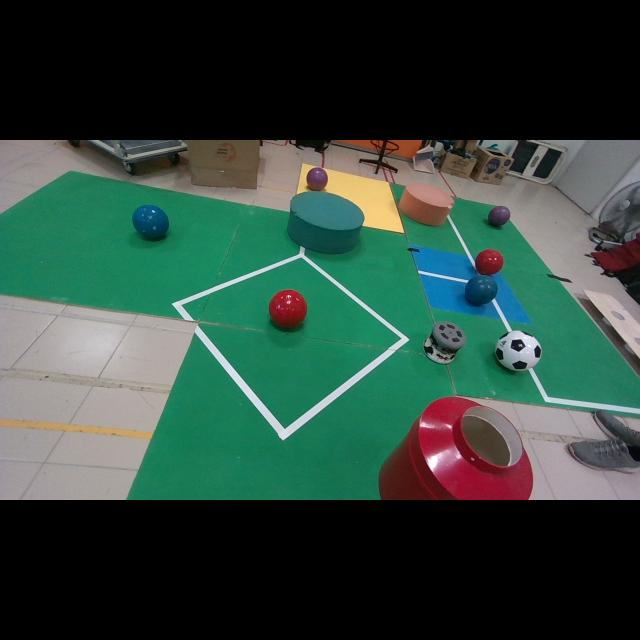B: (132, 205, 169, 239), (465, 275, 498, 306)
P: (306, 168, 328, 191), (489, 206, 510, 227)
R: (269, 289, 308, 329), (475, 249, 504, 275)
